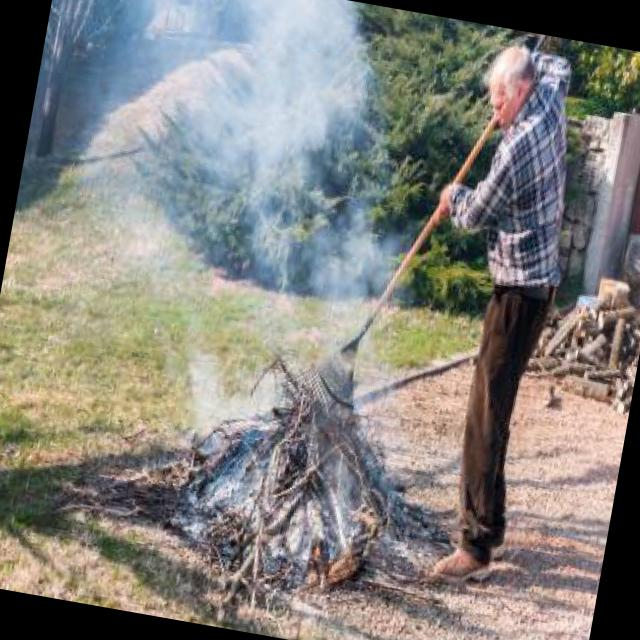smoke: (0, 0, 448, 529)
